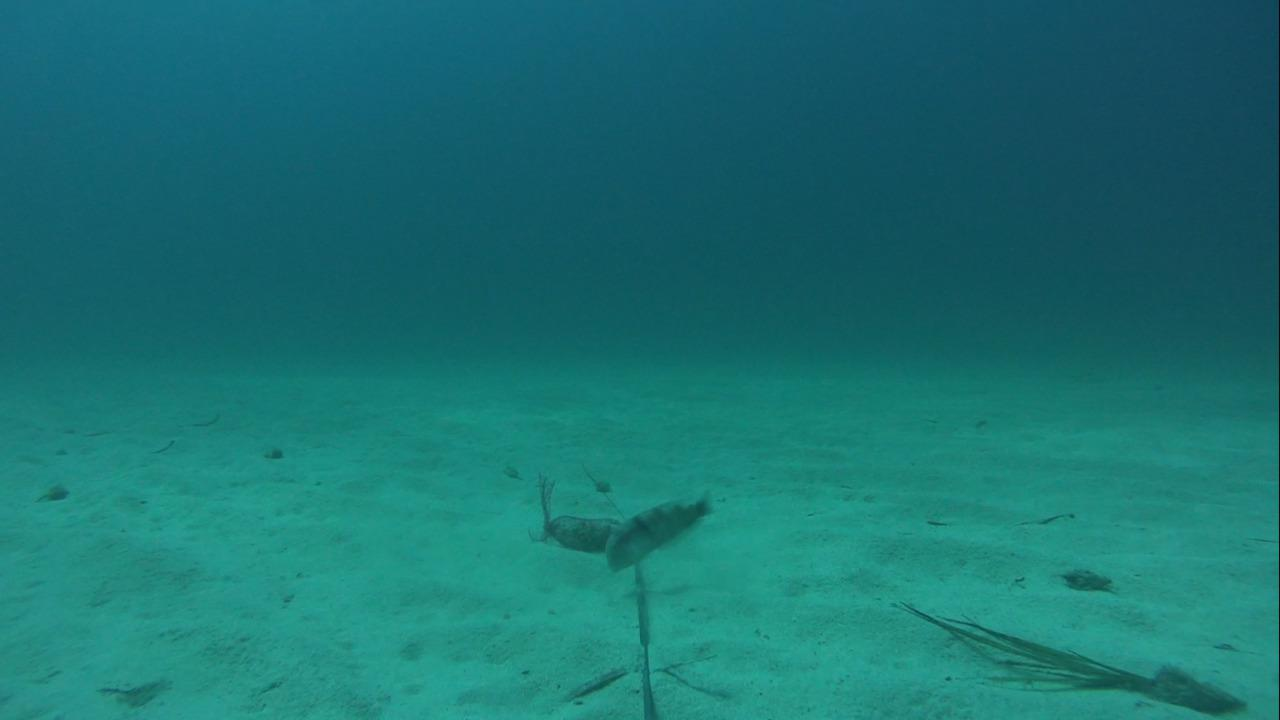raor: (602, 492, 716, 576)
